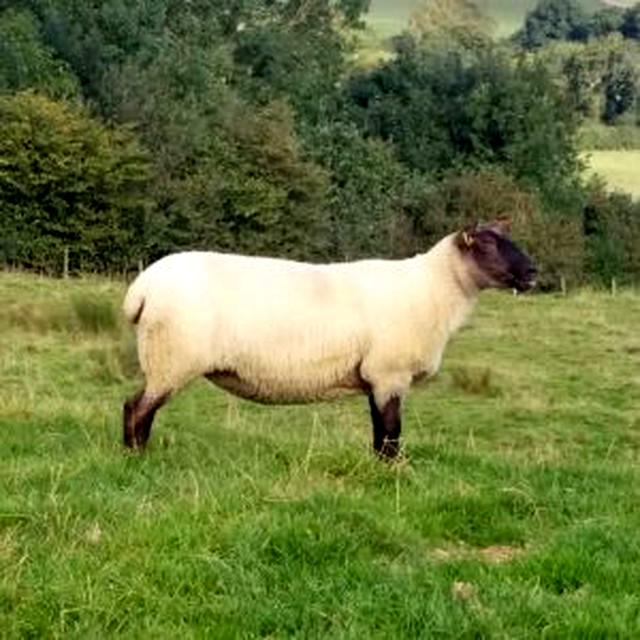sheep: (120, 222, 539, 456)
